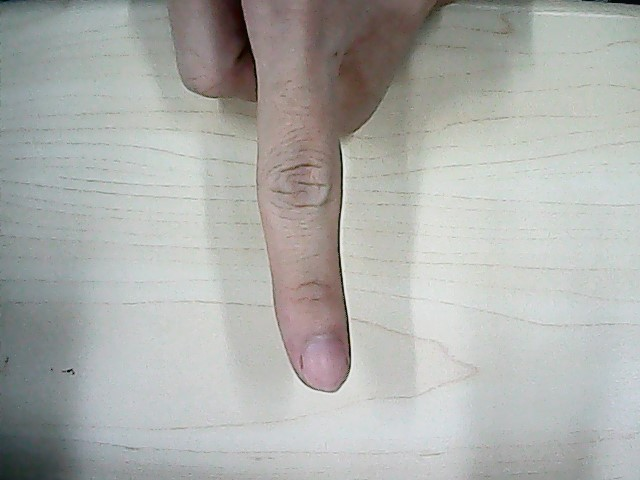nail: (298, 337, 350, 393)
